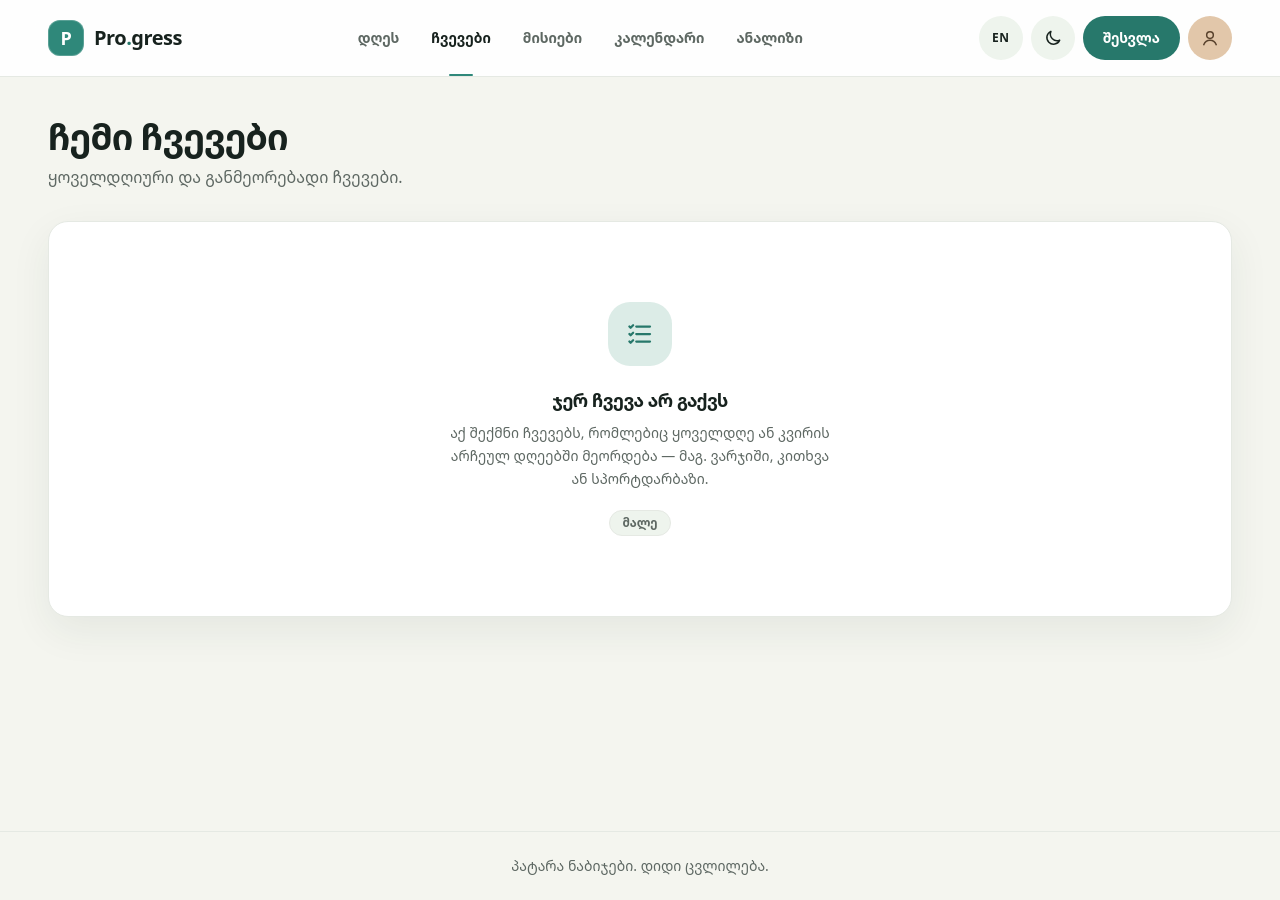
Test: languages (TDD §11.5) › header button switches the whole UI to English and remembers it
Click the button with aria-label "ინგლისურ ენაზე გადართვა". click: click(1001, 38)
box: [979,16,1023,60]
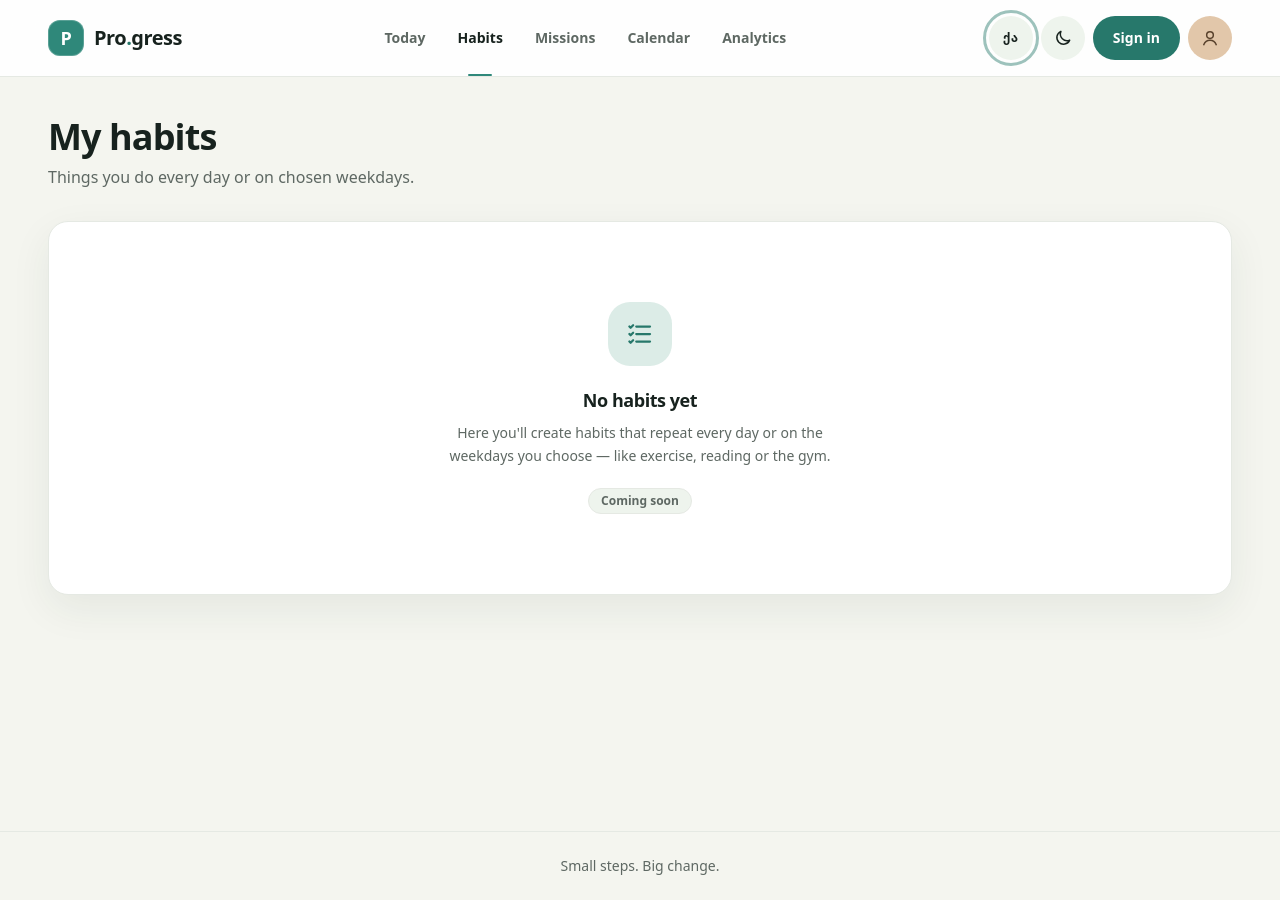
Expected: the link "Missions" is shown, [535,28,595,47]
Expected: the heading "My habits" is shown, [48,112,216,161]
